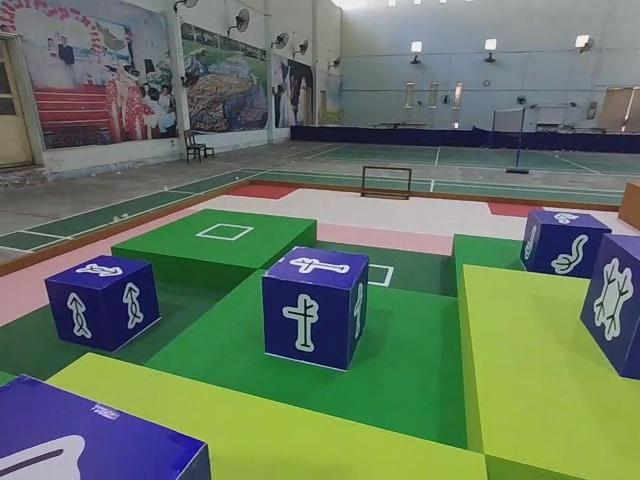R2 Real Blue: (264, 249, 374, 375), (47, 254, 164, 352), (580, 234, 640, 392), (519, 211, 613, 284)
